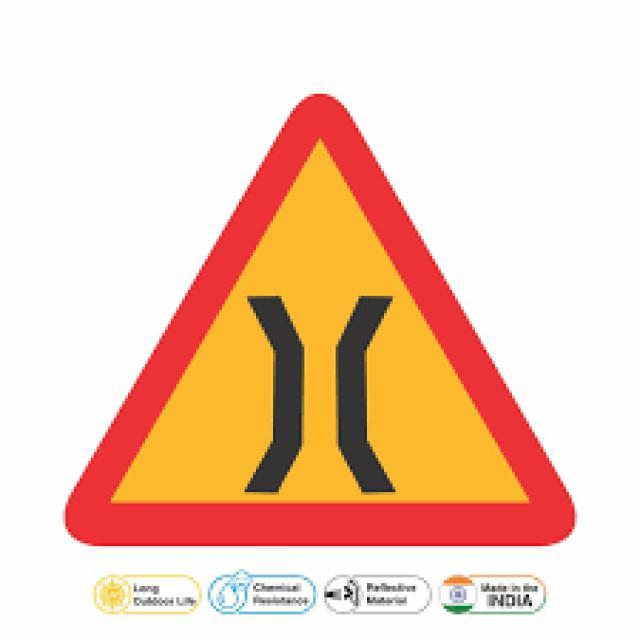narrow bridge ahead: (49, 73, 596, 563)
